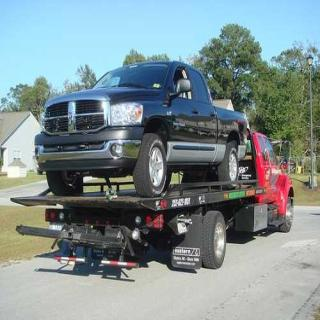Towing_truck: (10, 129, 295, 272)
